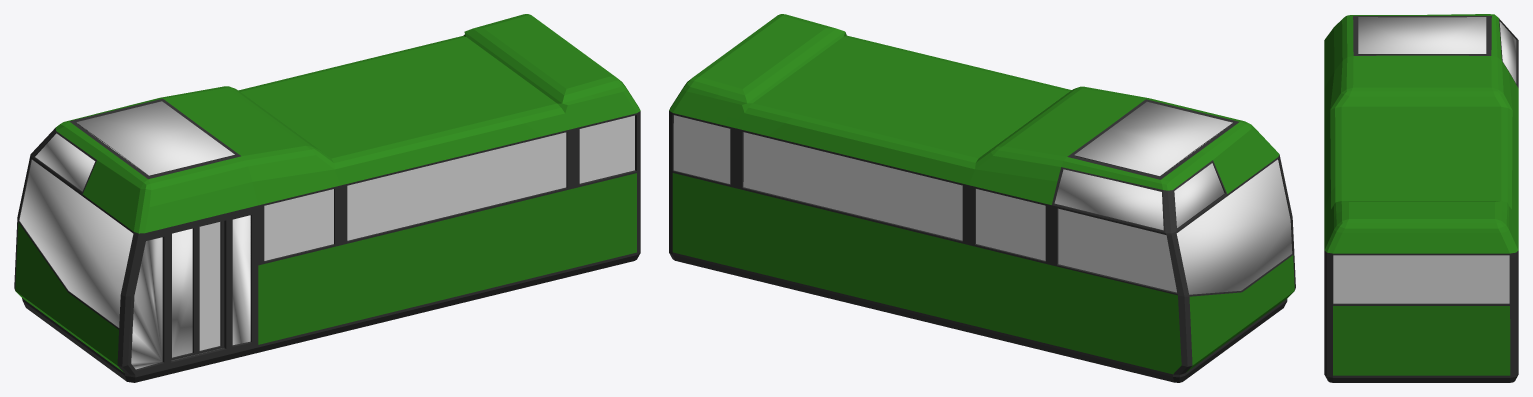
File: bus.fbx
The picture shows the model from 3 angles, left to right: view 1: azimuth 30°, elevation 25°; view 2: azimuth 150°, elevation 25°; view 3: azimuth 270°, elevation 25°; orthographic projection. The views are drawn at different scales.
Parts seen in each view (by area): view 1: Bus, Bus - Back, Bus - Top, Door- Left, Door- Right; view 2: Bus, Bus - Back, Bus - Top, Cube.005; view 3: Bus - Back, Bus, Bus - Top.
Part boxes in pixels (x1,y1,x2,y2): Bus: (14, 46, 604, 382); Bus - Back: (499, 14, 640, 274); Bus - Top: (420, 21, 607, 169); Door- Left: (196, 221, 224, 354); Door- Right: (171, 227, 196, 360); Bus: (704, 46, 1295, 382); Bus - Back: (669, 14, 809, 273); Bus - Top: (702, 21, 889, 168); Cube.005: (1058, 208, 1176, 292); Bus - Back: (1324, 210, 1518, 382); Bus: (1324, 14, 1518, 209); Bus - Top: (1324, 184, 1518, 236).
Size of the model in its own units: 3096 by 1075 by 1136.
